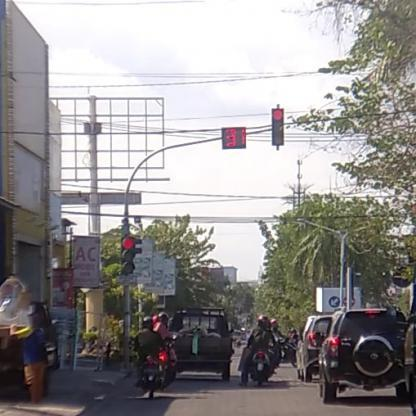red: (272, 108, 286, 147), (121, 236, 134, 274)
